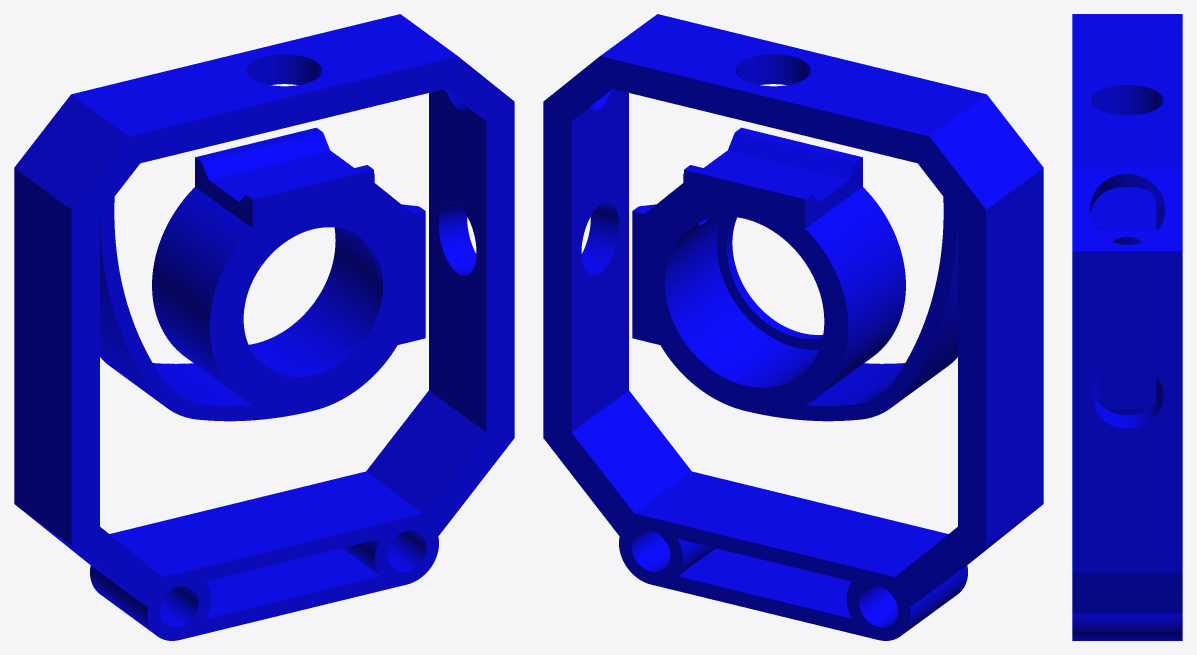
Rendered from Cube 1x1 V5_Half Inch Lense Holder (V5).obj.
3 views of the same model, side by side, from view 1: azimuth 30°, elevation 25°; view 2: azimuth 150°, elevation 25°; view 3: azimuth 270°, elevation 25° (orthographic). The views are drawn at different scales.
Visible parts, largest first — view 1: Solid1:15; view 2: Solid1:15; view 3: Solid1:15.
Part boxes in pixels (x1,y1,x2,y2): Solid1:15: (14,14,514,640); Solid1:15: (543,14,1043,640); Solid1:15: (1072,14,1182,640).
Bounding box in the file's own units: 38.94 × 43.33 × 8.75.
